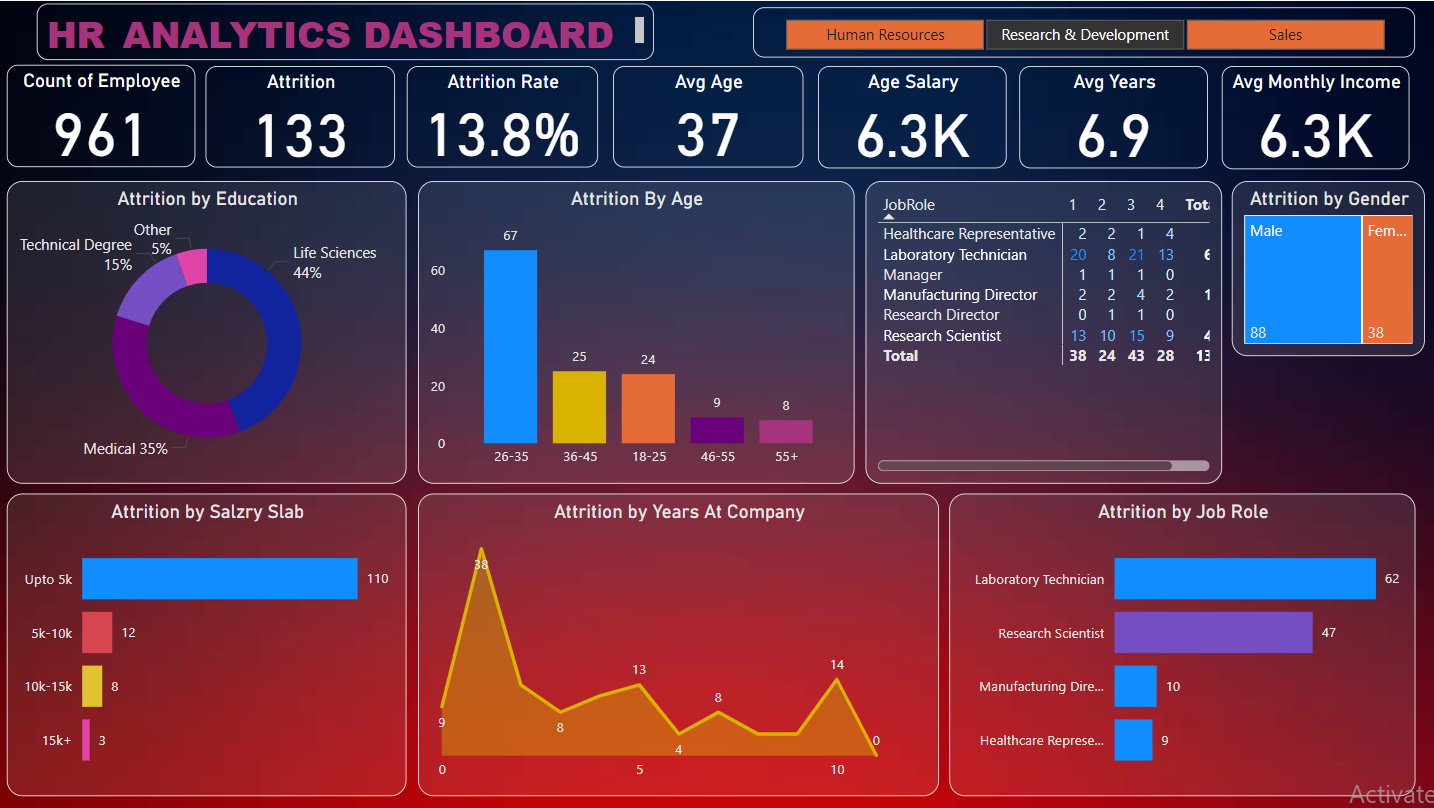

What the dashboard file says about the page in this screenshot:
{"tool":"powerbi","page":{"name":"Page 1","canvas":[1280,720],"ordinal":0},"visuals":[{"type":"card","title":"Count of Employee","fields":{"Values":["Count(HR_Analytics.EmpID)"]},"box":[7.8,56.8,168.1,91.3],"z":0},{"type":"card","title":"Attrition","fields":{"Values":["Sum(HR_Analytics.AttritionCount)"]},"box":[185.2,57.6,168.8,90.6],"z":1000},{"type":"card","title":"Attrition Rate","fields":{"Values":["HR_Analytics.AttritionRate"]},"box":[364,57.9,170.3,90.2],"z":2000},{"type":"card","title":"Avg Age","fields":{"Values":["Avg(HR_Analytics.Age)"]},"box":[547.7,57.9,169.2,90.2],"z":3000},{"type":"card","title":"Age Salary","fields":{"Values":["Avg(HR_Analytics.MonthlyIncome)"]},"box":[730.2,57.9,168.1,91.3],"z":4000},{"type":"card","title":"Avg Years","fields":{"Values":["Avg(HR_Analytics.YearsAtCompany)"]},"box":[909.5,57.9,168.1,91.3],"z":5000},{"type":"donutChart","title":"Attrition by Education","fields":{"Category":["HR_Analytics.EducationField"],"Y":["Sum(HR_Analytics.AttritionCount)"]},"box":[7.8,160.3,356.2,269.4],"z":6000},{"type":"columnChart","title":"Attrition By Age","fields":{"Category":["HR_Analytics.AgeGroup"],"Y":["Sum(HR_Analytics.AttritionCount)"]},"box":[374,160.3,388.5,269.4],"z":7000},{"type":"pivotTable","fields":{"Rows":["HR_Analytics.JobRole"],"Columns":["HR_Analytics.JobSatisfaction"],"Values":["Sum(HR_Analytics.AttritionCount)"]},"box":[772.5,160.3,317.3,269.4],"z":8000},{"type":"barChart","title":"Attrition by Salzry Slab","fields":{"Category":["HR_Analytics.SalarySlab"],"Y":["Sum(HR_Analytics.AttritionCount)"]},"box":[7.8,438.6,356.2,269.4],"z":9000},{"type":"barChart","title":"Attrition by Job Role","fields":{"Category":["HR_Analytics.JobRole"],"Y":["Sum(HR_Analytics.AttritionCount)"]},"box":[847.1,438.6,415.2,269.4],"z":10000},{"type":"areaChart","title":"Attrition by Years At Company","fields":{"Category":["HR_Analytics.YearsAtCompany"],"Y":["Sum(HR_Analytics.AttritionCount)"]},"box":[374,438.6,464.2,269.4],"z":11000},{"type":"treemap","title":"Attrition by Gender","fields":{"Group":["HR_Analytics.Gender"],"Values":["Sum(HR_Analytics.AttritionCount)"]},"box":[1098.8,160.5,172.1,155.8],"z":12000},{"type":"slicer","fields":{"Values":["HR_Analytics.Department"]},"box":[672.4,5.6,590,44.5],"z":13000},{"type":"textbox","box":[34.9,2.3,551.2,55.8],"z":14000},{"type":"card","title":"Avg Monthly Income","fields":{"Values":["Avg(HR_Analytics.MonthlyIncome)"]},"box":[1089.5,58.1,167.4,91.9],"z":15000}]}

Visuals, with their boxes in screenshot pixels (x1, y1, x2, y2), scaled from the page's 1280x720 canvas onto the 1434x808 screenshot:
"Count of Employee" card: rect(9, 64, 197, 166)
"Attrition" card: rect(207, 65, 397, 166)
"Attrition Rate" card: rect(408, 65, 599, 166)
"Avg Age" card: rect(614, 65, 803, 166)
"Age Salary" card: rect(818, 65, 1006, 167)
"Avg Years" card: rect(1019, 65, 1207, 167)
"Attrition by Education" donutChart: rect(9, 180, 408, 482)
"Attrition By Age" columnChart: rect(419, 180, 854, 482)
pivotTable - HR_Analytics.JobRole x HR_Analytics.JobSatisfaction: rect(865, 180, 1221, 482)
"Attrition by Salzry Slab" barChart: rect(9, 492, 408, 795)
"Attrition by Job Role" barChart: rect(949, 492, 1414, 795)
"Attrition by Years At Company" areaChart: rect(419, 492, 939, 795)
"Attrition by Gender" treemap: rect(1231, 180, 1424, 355)
slicer - HR_Analytics.Department: rect(753, 6, 1414, 56)
textbox: rect(39, 3, 657, 65)
"Avg Monthly Income" card: rect(1221, 65, 1408, 168)
